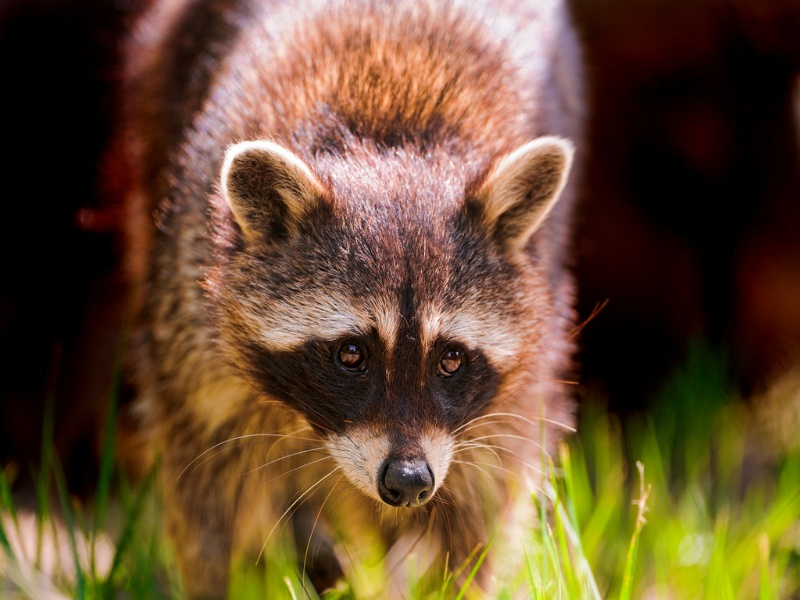raccoon: (44, 1, 605, 582)
